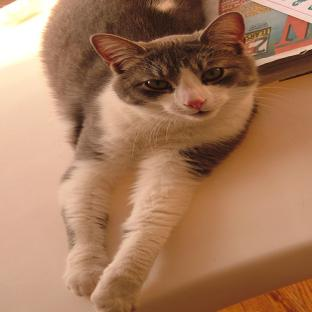Animal: (41, 0, 257, 311)
